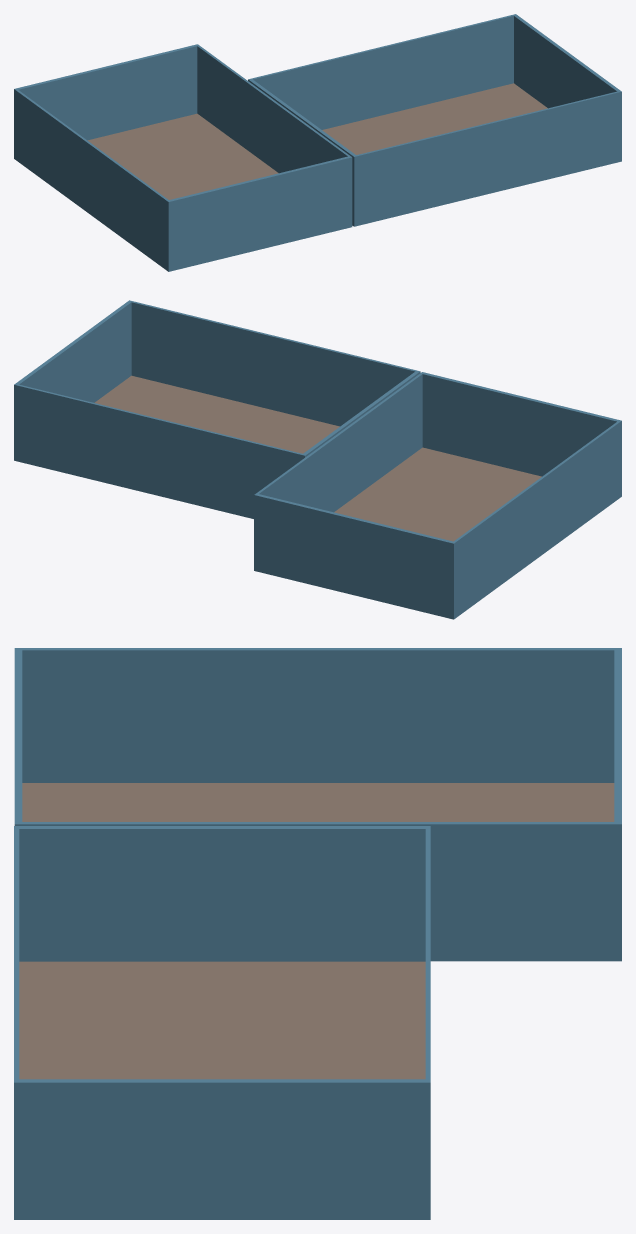
Rendered from paredes.fbx.
The picture shows the model from 3 angles, top to bottom: view 1: azimuth 30°, elevation 25°; view 2: azimuth 150°, elevation 25°; view 3: azimuth 270°, elevation 25°; orthographic projection. The views are drawn at different scales.
Visible parts, largest first — view 1: Cube, Cube.001; view 2: Cube, Cube.001; view 3: Cube.001, Cube.
Boxes of the visible parts, left/top/right/bottom form: Cube: left=14, top=44, right=352, bottom=271; Cube.001: left=248, top=14, right=621, bottom=226; Cube: left=254, top=372, right=621, bottom=619; Cube.001: left=14, top=300, right=420, bottom=518; Cube.001: left=14, top=826, right=430, bottom=1219; Cube: left=14, top=648, right=621, bottom=961.
Bounding box in the file's own units: 11929 × 1757 × 7054.
